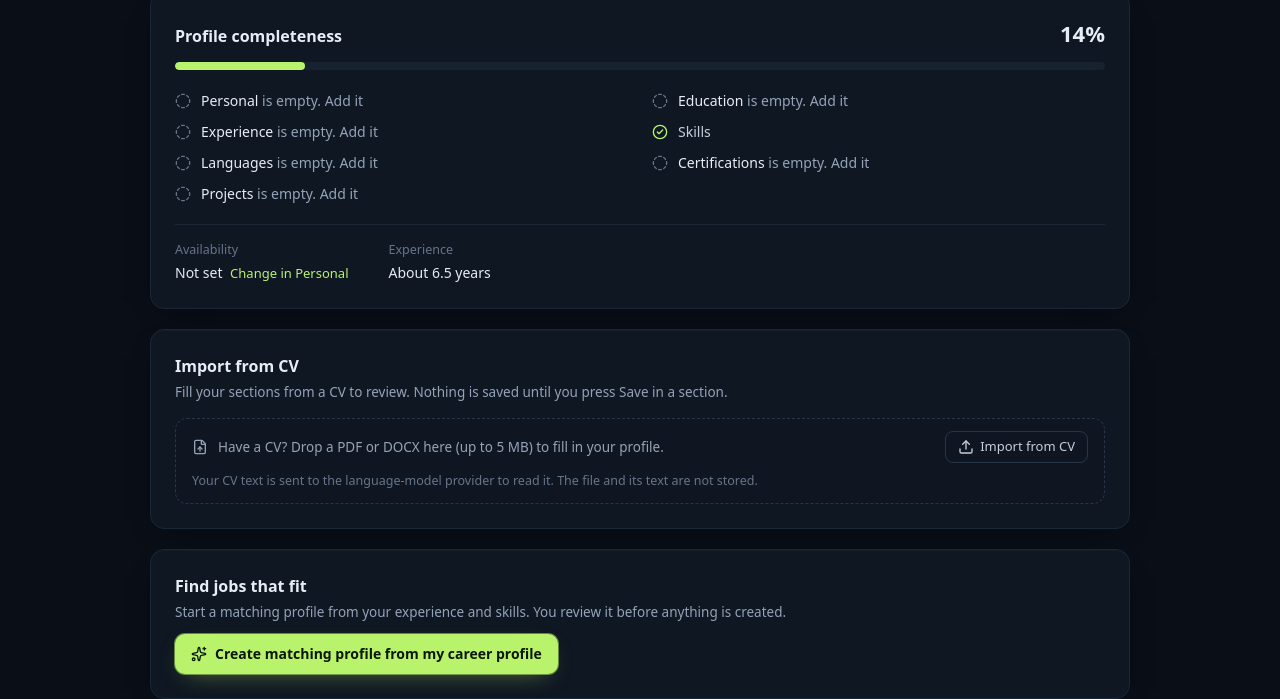
Test: Create matching profile from my career profile › asks for a draft without a body, opens the matching page in the create state with it, and creates nothing
This screenshot has width=1280, height=699.
(page scrolled)
Step 1. Click the button "Create matching profile from my career profile" → (366, 654), box [175, 634, 558, 674]
(page scrolled)
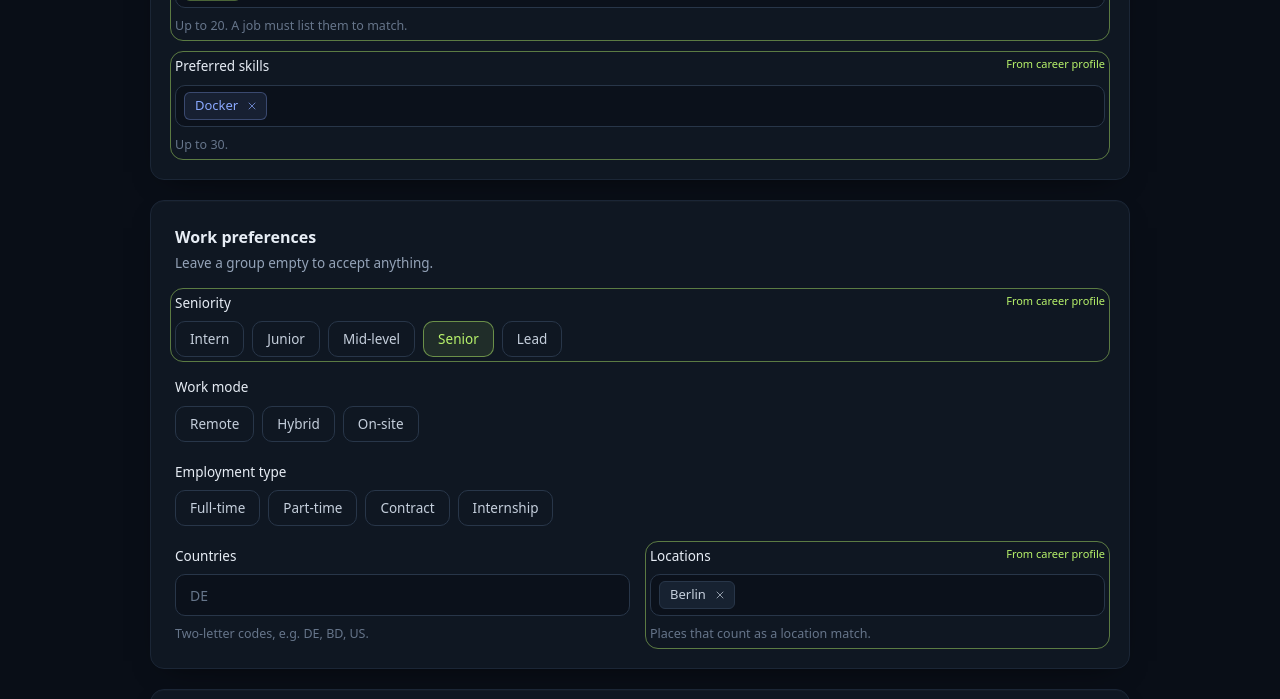
Now the text "Docker" is shown, box [184, 92, 267, 120]
Now the text "Berlin" is shown, box [659, 581, 735, 609]
